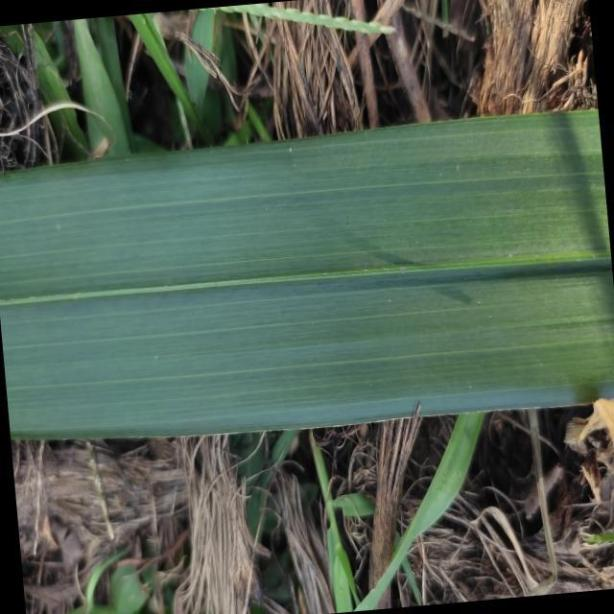Healthy: (0, 104, 614, 443)
